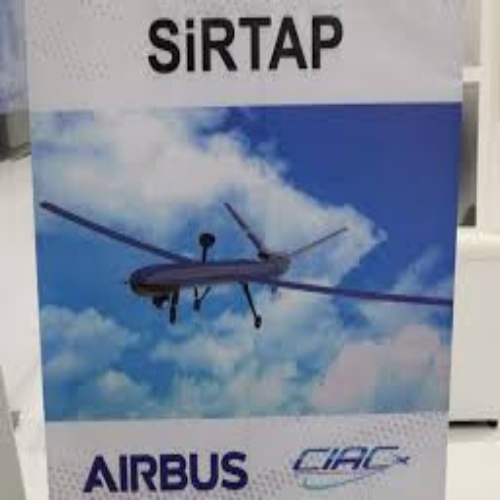uav281: (37, 193, 453, 331)
